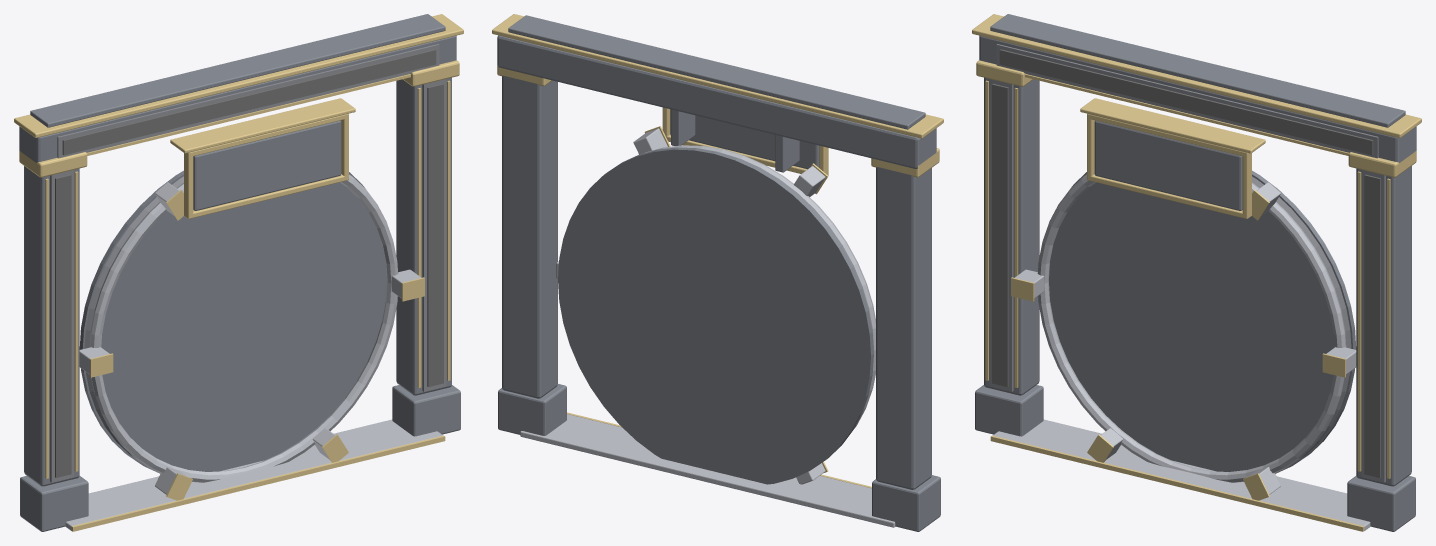
File: prop_vault_frame.glb
The picture shows the model from 3 angles, left to right: view 1: azimuth 30°, elevation 25°; view 2: azimuth 150°, elevation 25°; view 3: azimuth 330°, elevation 25°; orthographic projection.
Parts seen in each view (by area): view 1: Frame, Mouth, LedStrip; view 2: Frame, Mouth; view 3: Frame, Mouth, LedStrip.
Part boxes in pixels (left/top/right/bottom): Frame: left=14, top=14, right=463, bottom=531; Mouth: left=79, top=170, right=386, bottom=473; LedStrip: left=55, top=49, right=443, bottom=477; Frame: left=492, top=14, right=943, bottom=531; Mouth: left=558, top=147, right=873, bottom=484; Frame: left=972, top=14, right=1421, bottom=531; Mouth: left=1049, top=170, right=1356, bottom=473; LedStrip: left=992, top=49, right=1380, bottom=477.
Bounding box in the file's own units: 4.95 × 4.5 × 0.85.
